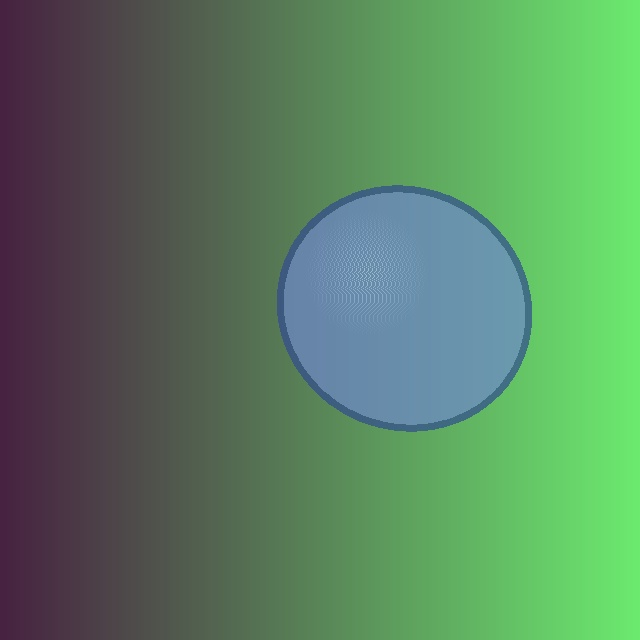lens: (280, 188, 528, 428)
